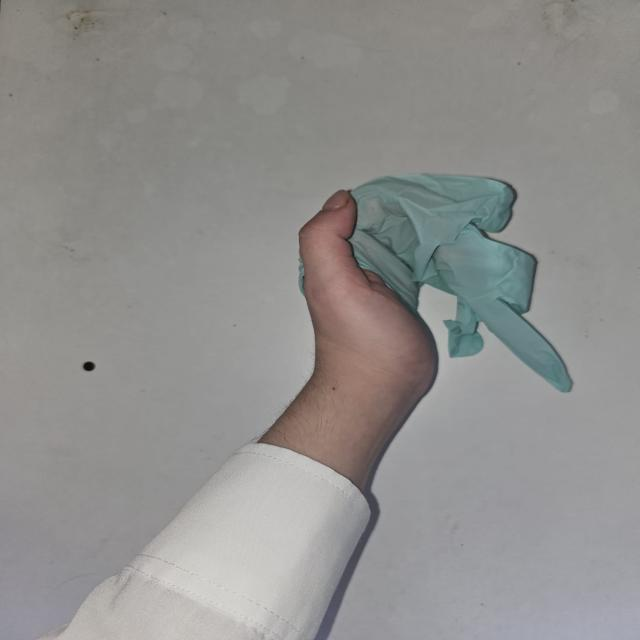glove_partial: (297, 173, 576, 392)
